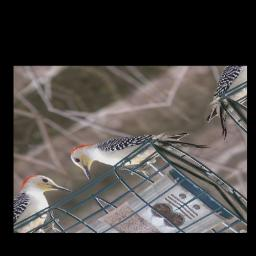Woodpecker: (57, 98, 213, 206)
